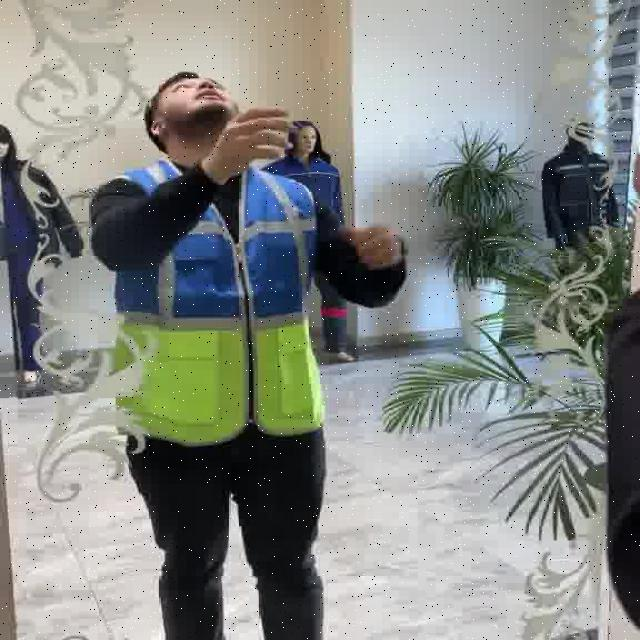Person: (80, 50, 408, 640)
Vest: (129, 162, 328, 431)
